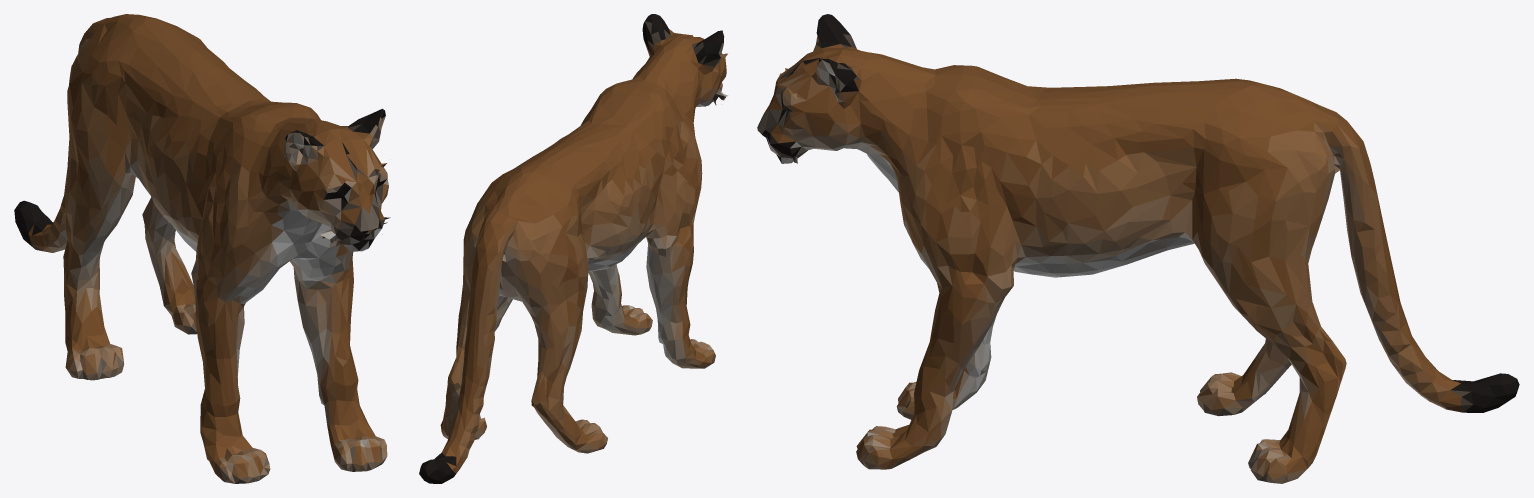
The model's file is puma_concolor.glb.
The picture shows the model from 3 angles, left to right: view 1: azimuth 30°, elevation 25°; view 2: azimuth 150°, elevation 25°; view 3: azimuth 270°, elevation 25°; orthographic projection. The views are drawn at different scales.
Visible parts, largest first — view 1: lod0; view 2: lod0; view 3: lod0.
Boxes of the visible parts, x1,y1,x2,y2 form: lod0: [14, 14, 390, 483]; lod0: [419, 14, 728, 483]; lod0: [757, 14, 1519, 483].
Size of what is drawn, in the model's own units: 0.3937 by 0.795 by 1.36.
